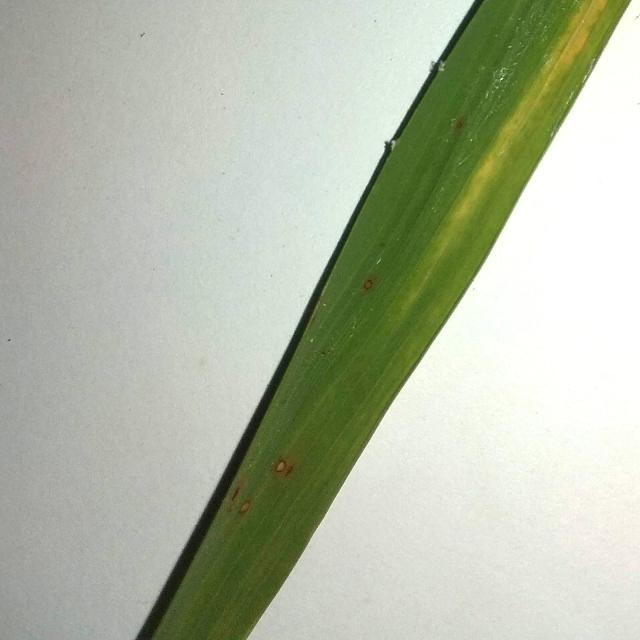Leaf blast: (45, 2, 640, 640)
